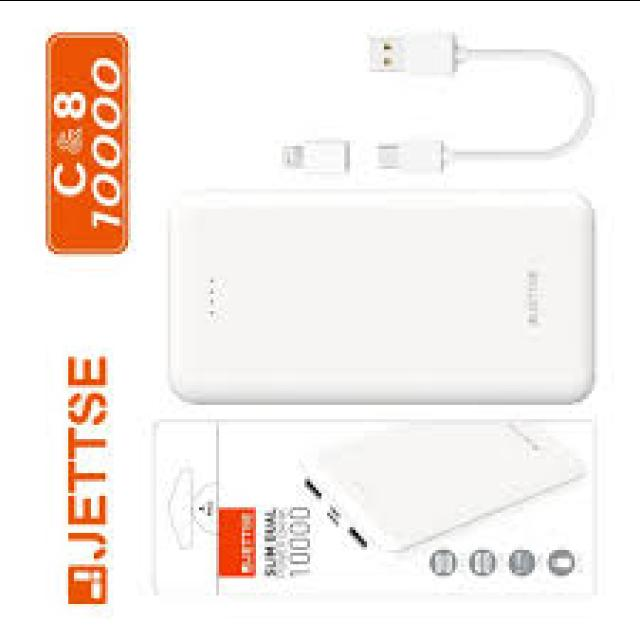portable-charger: (162, 185, 598, 405), (306, 418, 584, 548)
